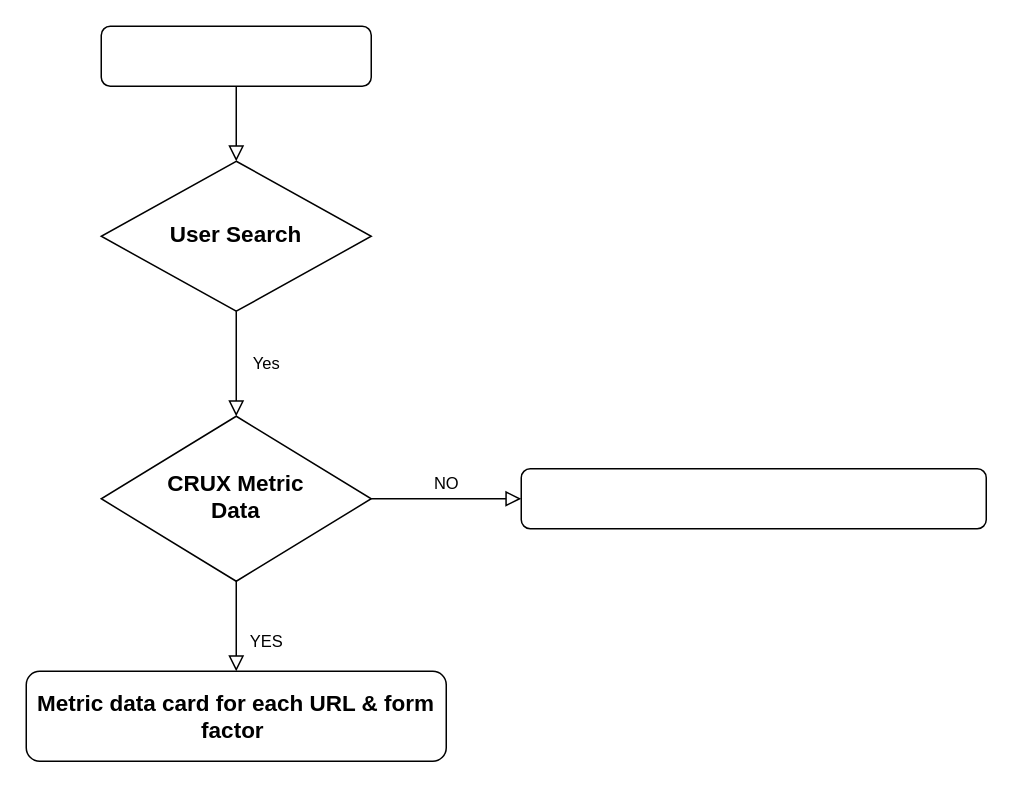
Some shapes in this 1013 by 788 pixel diagram are drawn without their labels. The shapes that lost their labels are listed below. From the top down, each one's centre as x and y in pixels, then its label:
point 235,55: Home
point 753,498: Display error message received from api
